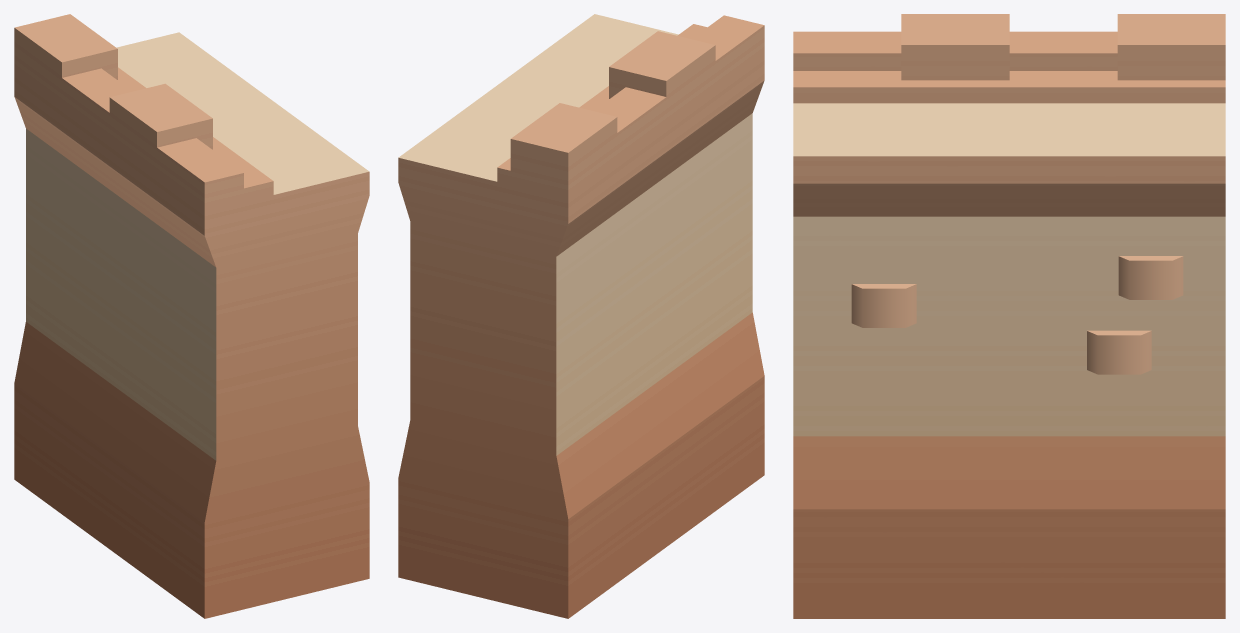
The model's file is m_stoneNarrow.glb.
3 renders of one model, left to right at view 1: azimuth 30°, elevation 25°; view 2: azimuth 150°, elevation 25°; view 3: azimuth 270°, elevation 25°, orthographic. The views are drawn at different scales.
Parts seen in each view (by area): view 1: wall-narrow; view 2: wall-narrow; view 3: wall-narrow.
Boxes of the visible parts, left/top/right/bottom form: wall-narrow: left=14, top=14, right=369, bottom=618; wall-narrow: left=398, top=14, right=764, bottom=618; wall-narrow: left=793, top=14, right=1225, bottom=618.
Bounding box in the file's own units: 0.4999 × 1.31 × 1.
Materials: 1 (1 with a texture image).
